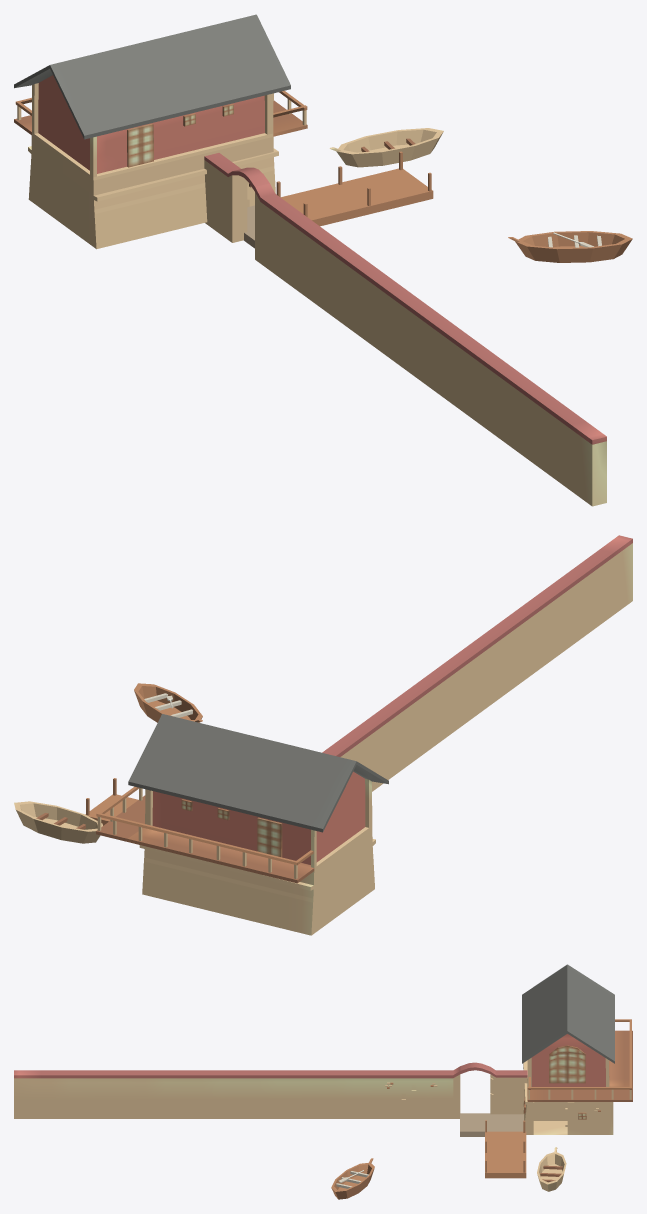
Rendered from house 1.FBX.
The picture shows the model from 3 angles, top to bottom: view 1: azimuth 30°, elevation 25°; view 2: azimuth 150°, elevation 25°; view 3: azimuth 270°, elevation 25°; orthographic projection. The views are drawn at different scales.
Visible parts, largest first — view 1: House, Wall, Boat_shell (×2), Yard; view 2: House, Wall, Boat_shell (×2), Yard; view 3: Wall, House, Yard, Boat_shell (×2).
Boxes of the visible parts, x1,y1,x2,y2 form: House: [14, 14, 307, 249]; Wall: [204, 153, 606, 506]; Boat_shell (×2): [329, 128, 632, 262]; Yard: [244, 151, 433, 248]; House: [96, 714, 388, 935]; Wall: [322, 535, 632, 791]; Boat_shell (×2): [14, 683, 202, 843]; Yard: [85, 778, 138, 825]; Wall: [14, 1062, 527, 1118]; House: [522, 964, 632, 1134]; Yard: [460, 1113, 526, 1178]; Boat_shell (×2): [331, 1147, 566, 1199].
Bounding box in the file's own units: 1080 × 422 × 2146.
